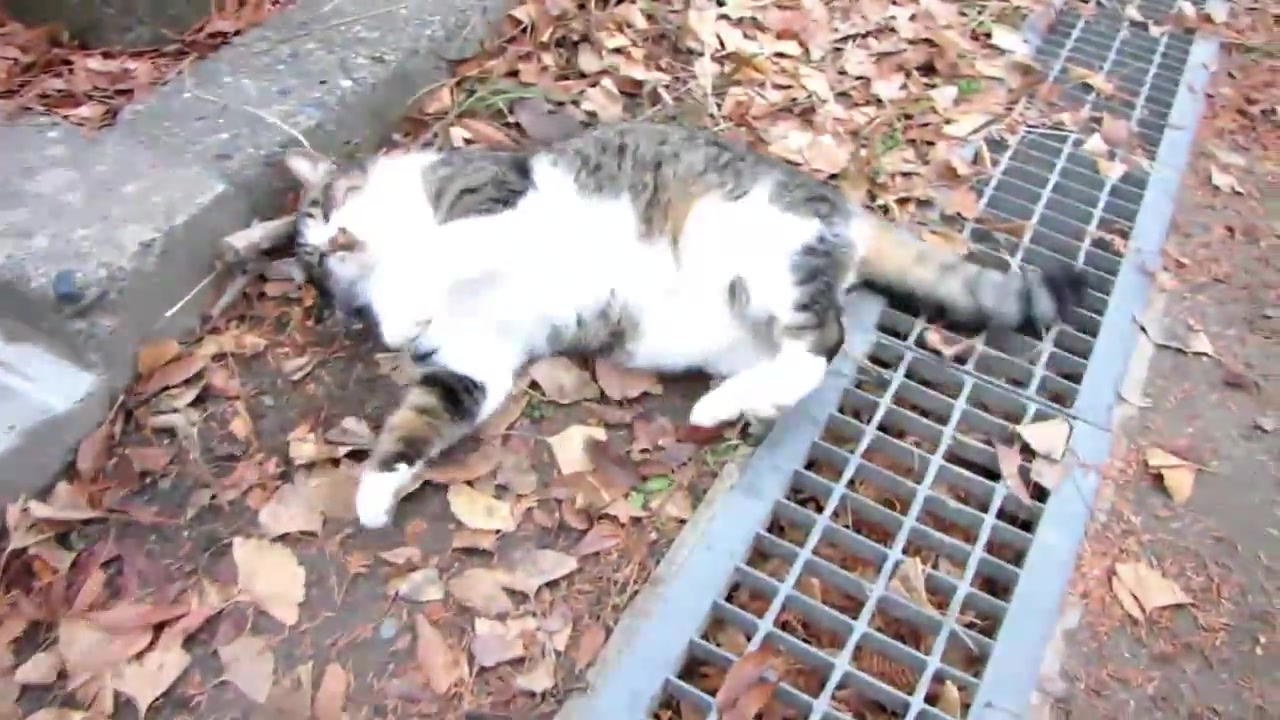cat: (199, 131, 1076, 526)
